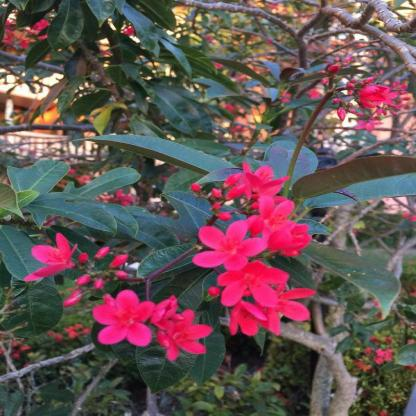other: (29, 166, 338, 353), (303, 41, 406, 135)
